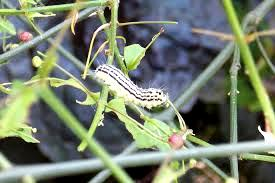Caterpillar: (91, 61, 177, 112)
